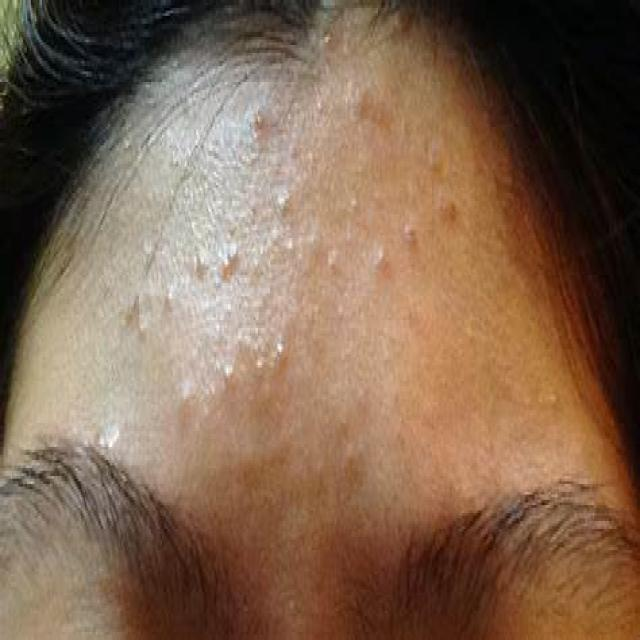fungal: (107, 80, 469, 536)
